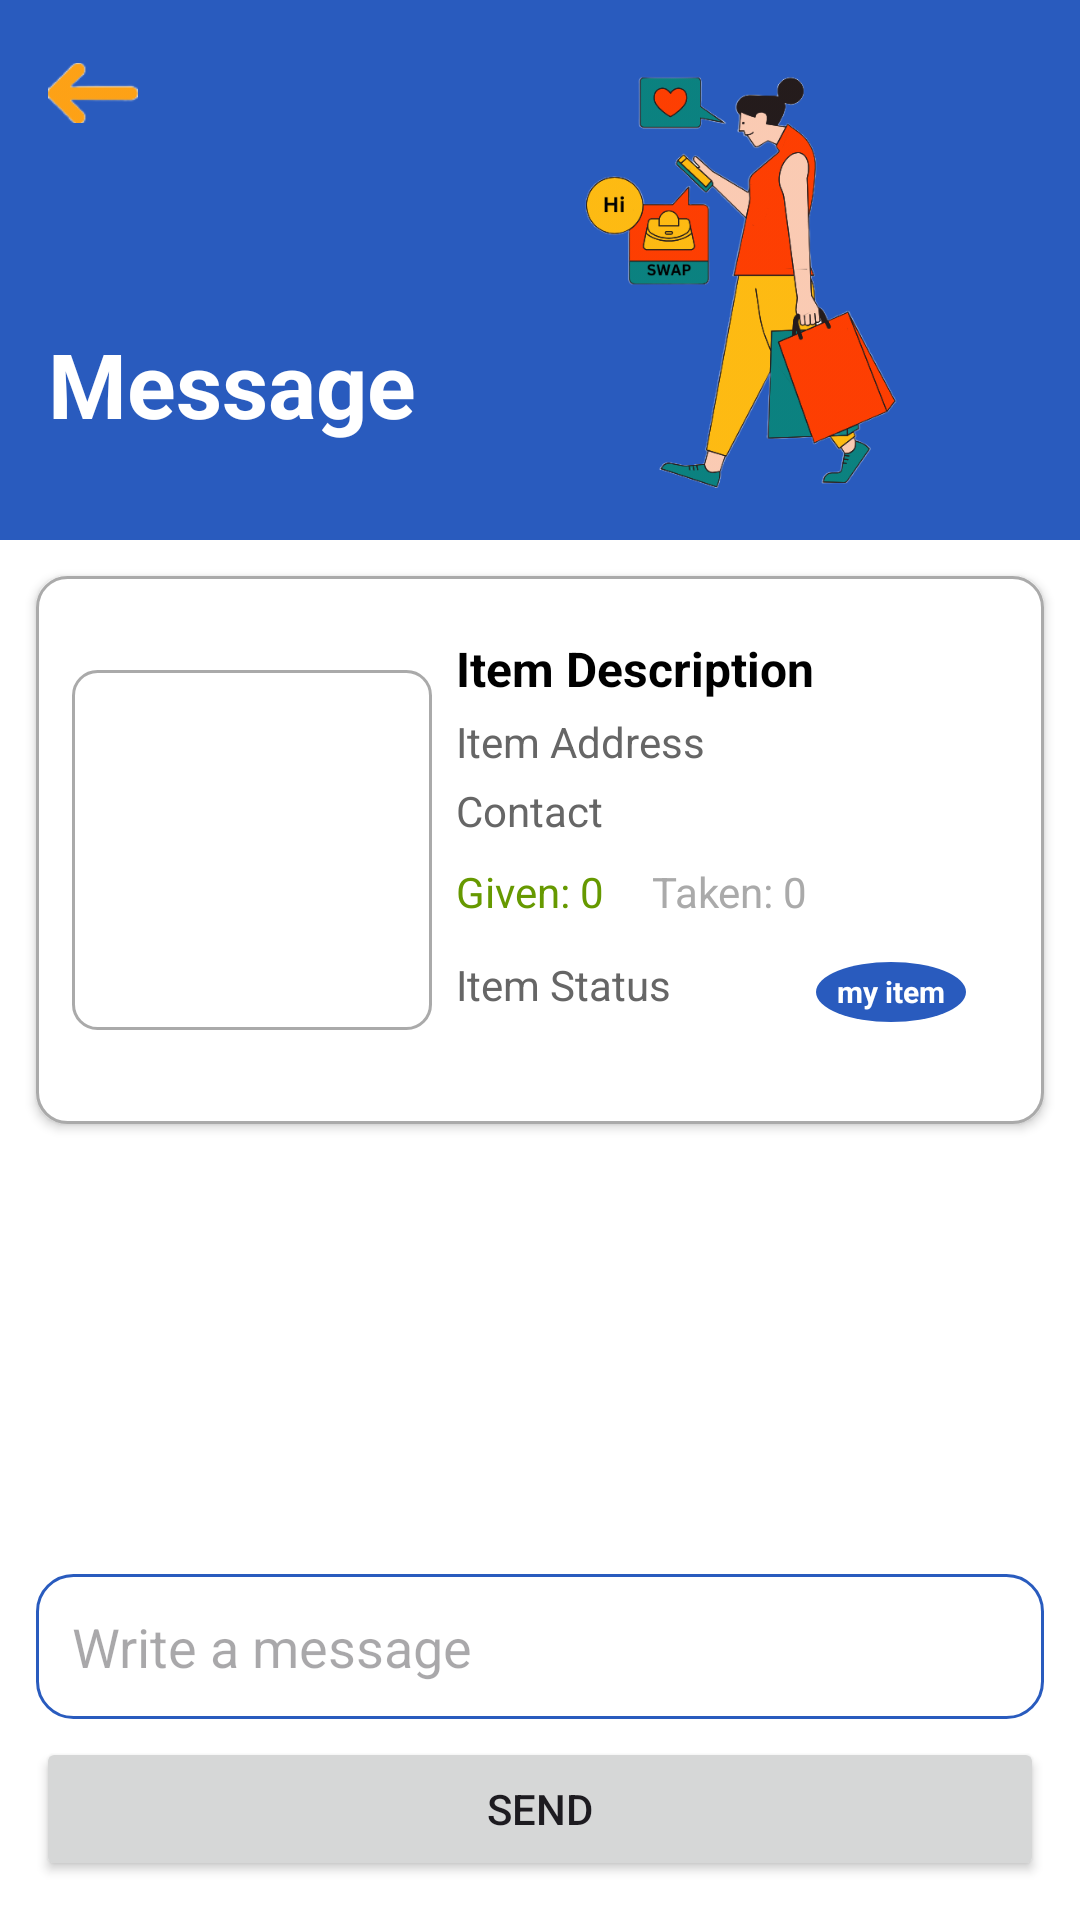

Named icons in this screenshot (1080px x 1920px) and their centers, [x,y]:
row left: [93,93]
